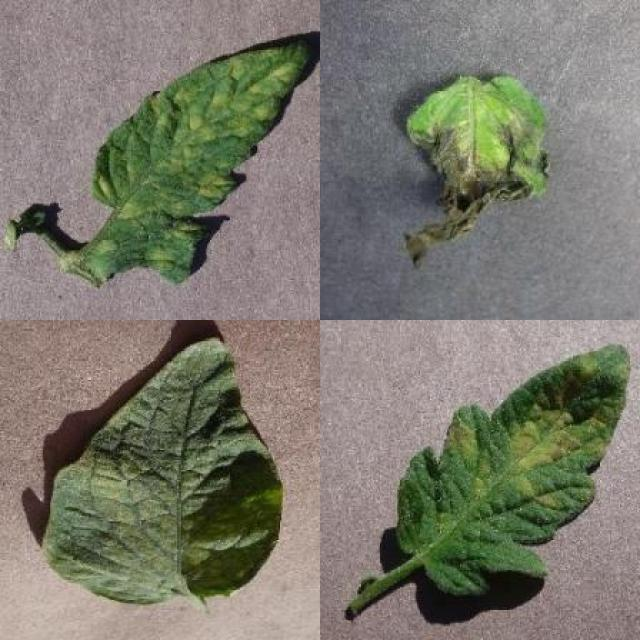Late Blight: (404, 74, 554, 274)
Leaf Mold: (69, 37, 307, 287), (397, 344, 632, 596)
Spider Mites: (45, 335, 285, 608)
